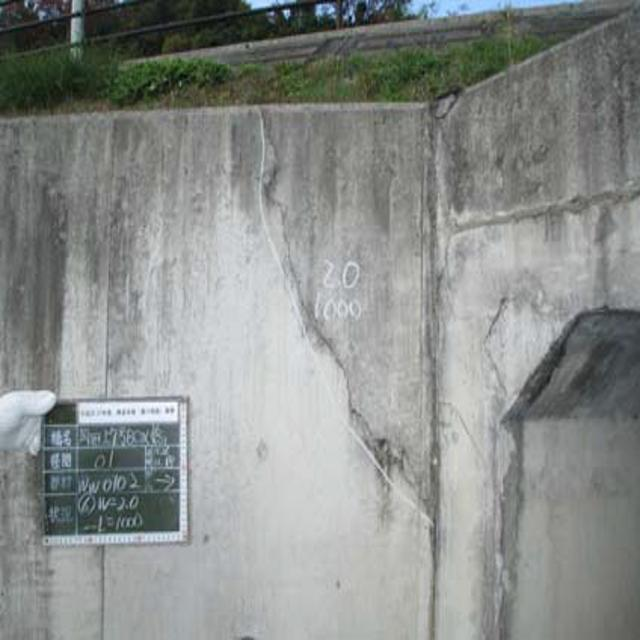crack: (251, 134, 433, 527), (476, 266, 526, 618)
